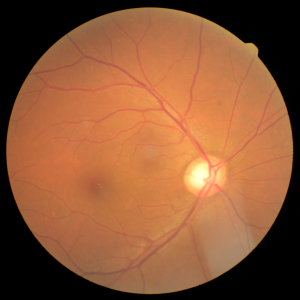glaucoma: (74, 120, 260, 234)
